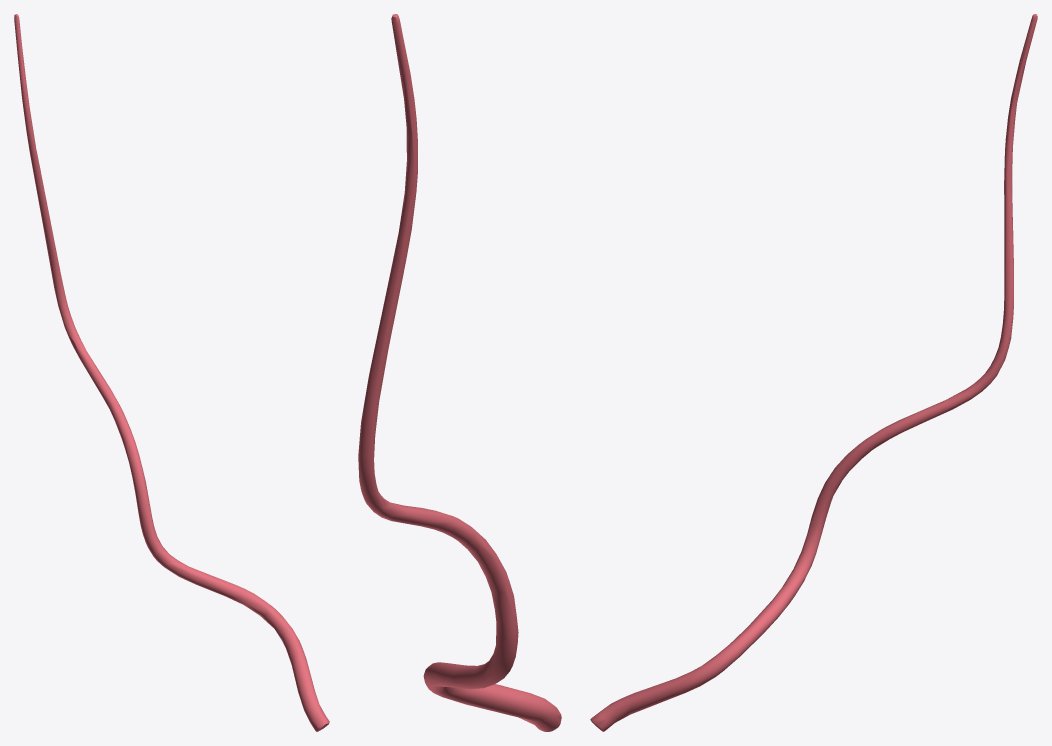
File: fma4134_fj2226.glb
3 views of the same model, side by side, from view 1: azimuth 30°, elevation 25°; view 2: azimuth 150°, elevation 25°; view 3: azimuth 270°, elevation 25° (orthographic). The views are drawn at different scales.
Parts seen in each view (by area): view 1: FMA4134_FJ2226; view 2: FMA4134_FJ2226; view 3: FMA4134_FJ2226.
Boxes of the visible parts, x1,y1,x2,y2 form: FMA4134_FJ2226: (14,14,329,731); FMA4134_FJ2226: (358,14,561,731); FMA4134_FJ2226: (590,14,1037,731).
Size of the model in its own units: 0.0163 by 0.071 by 0.0436.
